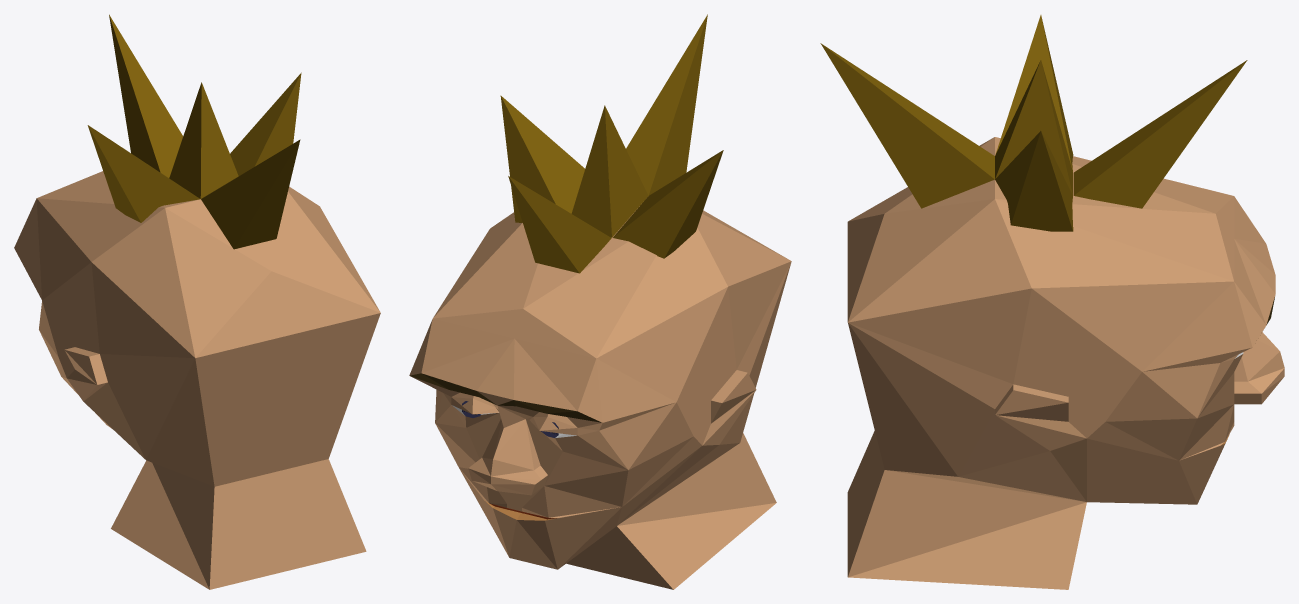
The model's file is npc_chat_dwarf_youngster_0.obj.
3 renders of one model, left to right at view 1: azimuth 30°, elevation 25°; view 2: azimuth 150°, elevation 25°; view 3: azimuth 270°, elevation 25°, orthographic. The views are drawn at different scales.
Size of the model in its own units: 0.5469 by 0.9453 by 0.7891.
